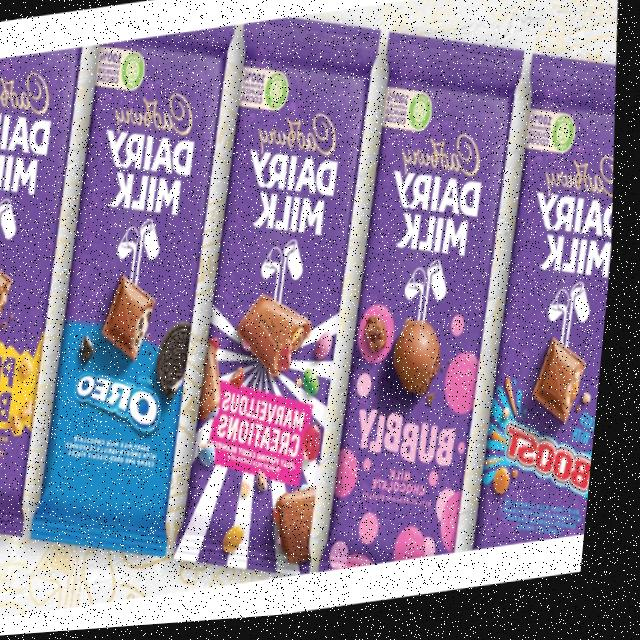cadbury: (143, 20, 423, 587), (4, 18, 271, 559), (304, 27, 558, 595), (455, 0, 639, 568), (0, 49, 114, 568)
